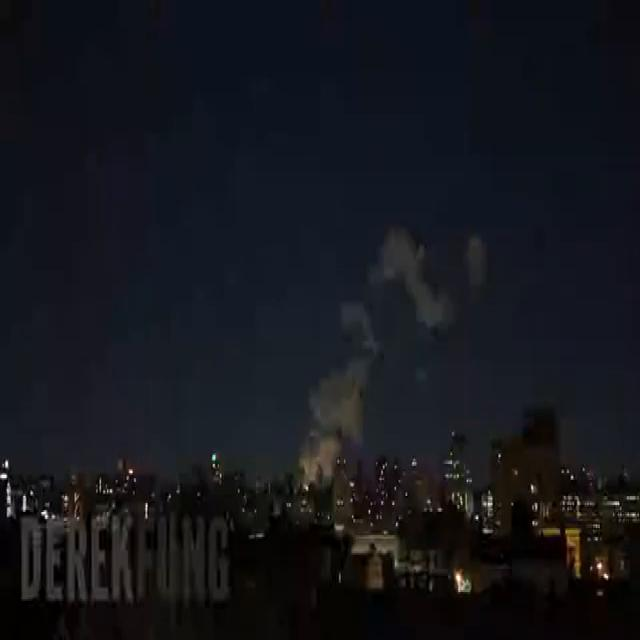smoke: (297, 315, 383, 480)
